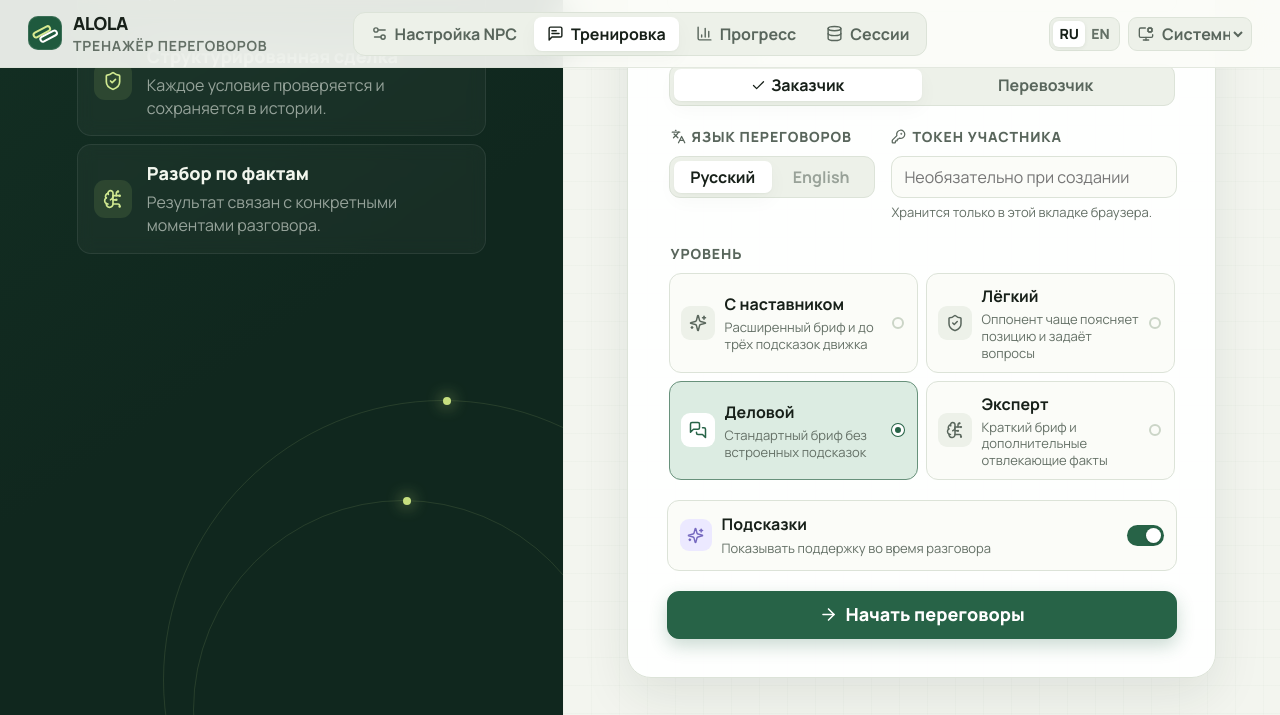
Scenario: session persistence › stores the session identity in sessionStorage after creation
(page scrolled)
Click the button "Начать переговоры".
click(922, 615)  # box [667, 591, 1177, 639]
(page scrolled)
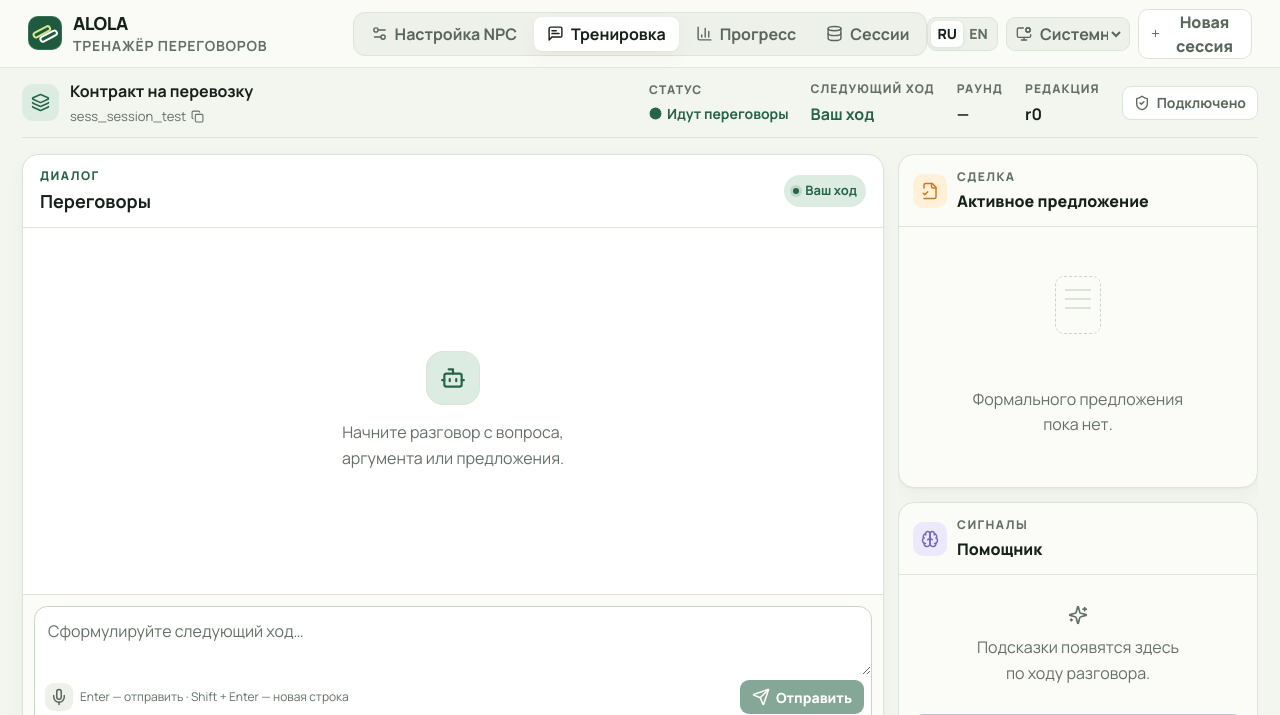
Expected: the text "sess_session_test" is shown, [70, 106, 186, 126]
